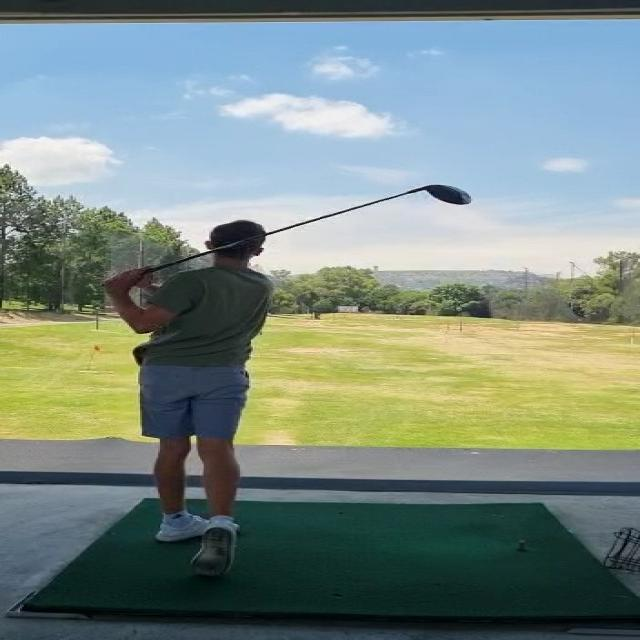club head: (422, 183, 475, 206)
